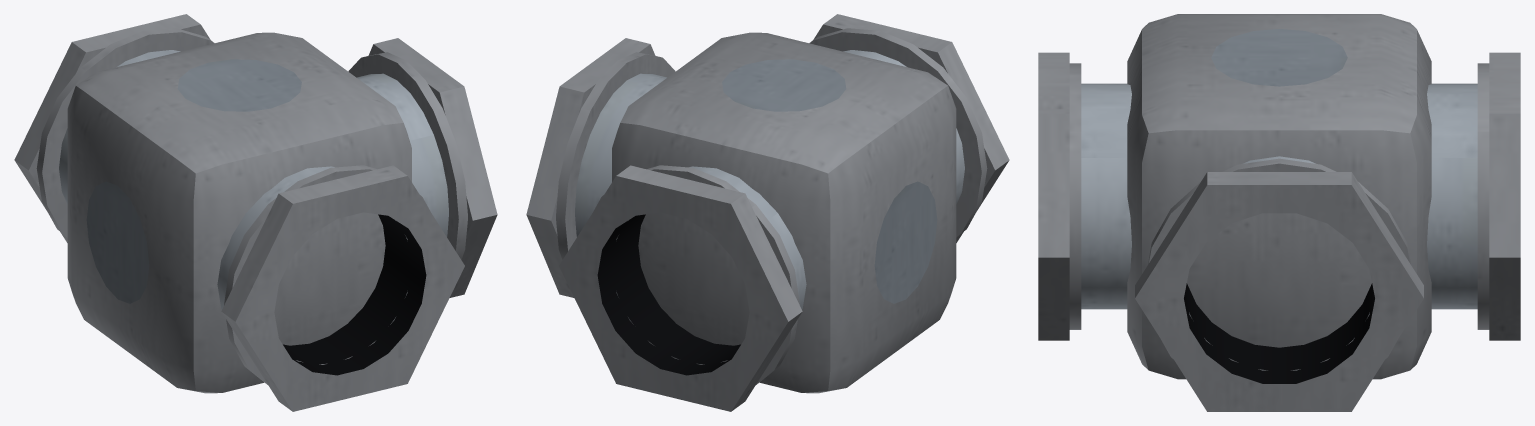
Rendered from small_pipe_tee.glb.
The picture shows the model from 3 angles, left to right: view 1: azimuth 30°, elevation 25°; view 2: azimuth 150°, elevation 25°; view 3: azimuth 270°, elevation 25°; orthographic projection. The views are drawn at different scales.
Parts seen in each view (by area): view 1: Body.004; view 2: Body.004; view 3: Body.004.
Boxes of the visible parts, <box> form: Body.004: <box>14,14,497,411</box>; Body.004: <box>526,14,1009,411</box>; Body.004: <box>1038,14,1520,411</box>.
Size of the model in its own units: 0.202 by 0.157 by 0.247.
Materials: 4 (3 with a texture image).
